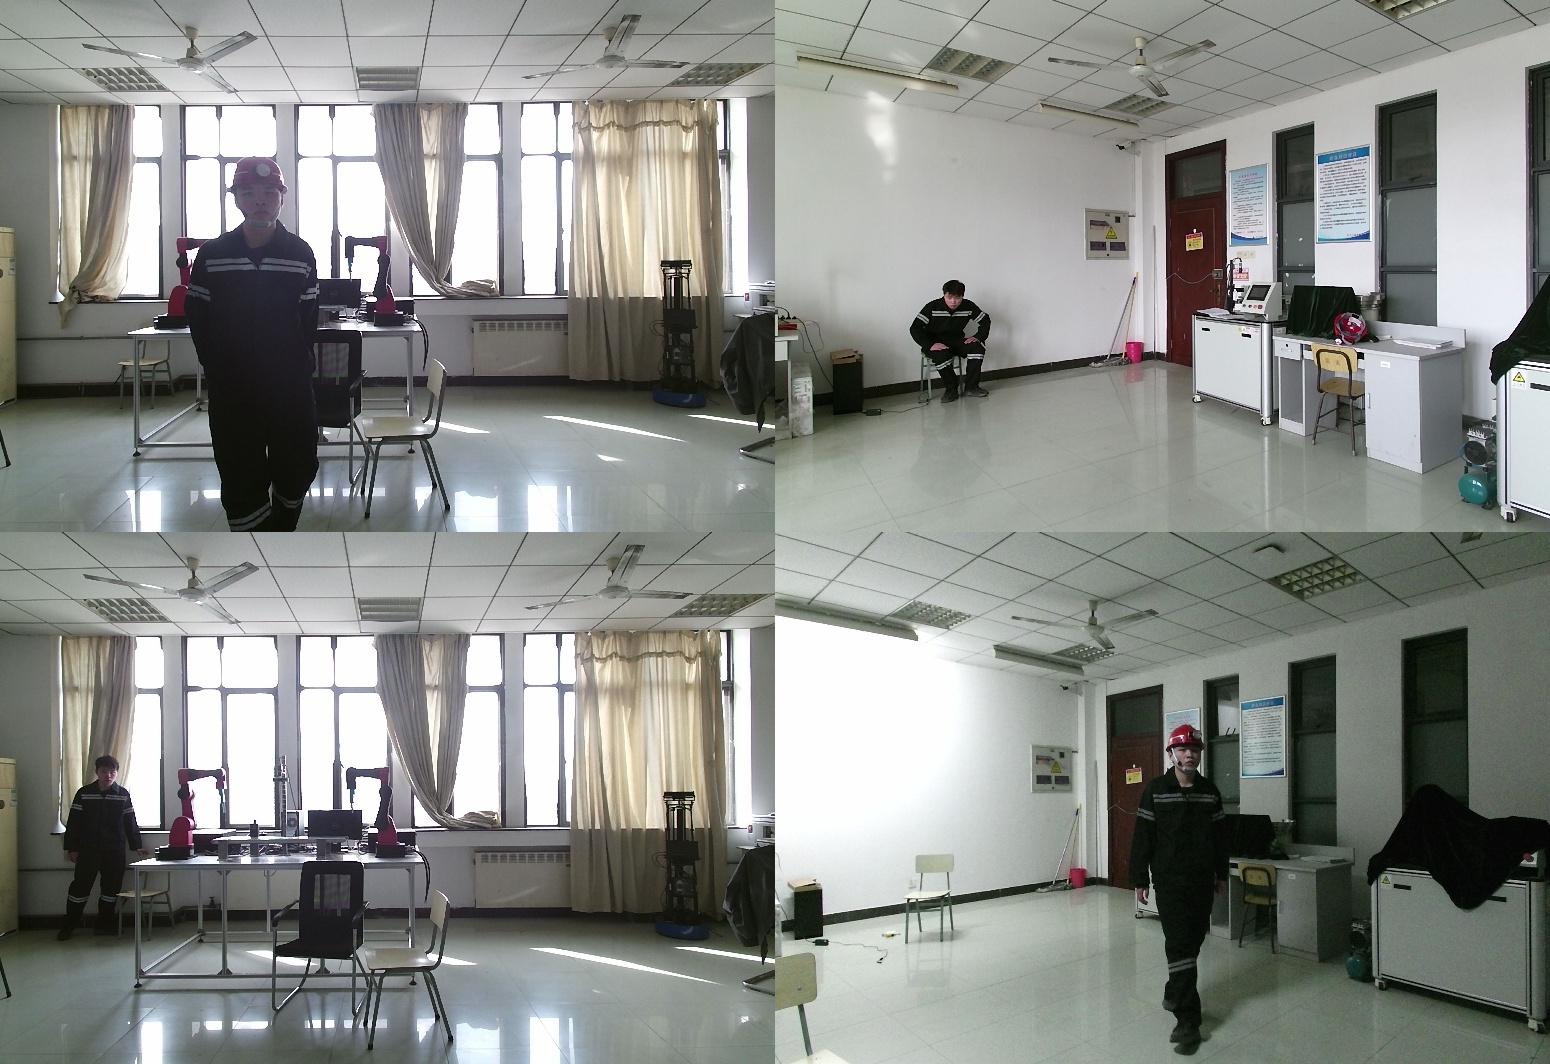person: (183, 159, 331, 532), (1126, 726, 1238, 1021), (59, 756, 146, 941), (908, 279, 990, 407)
